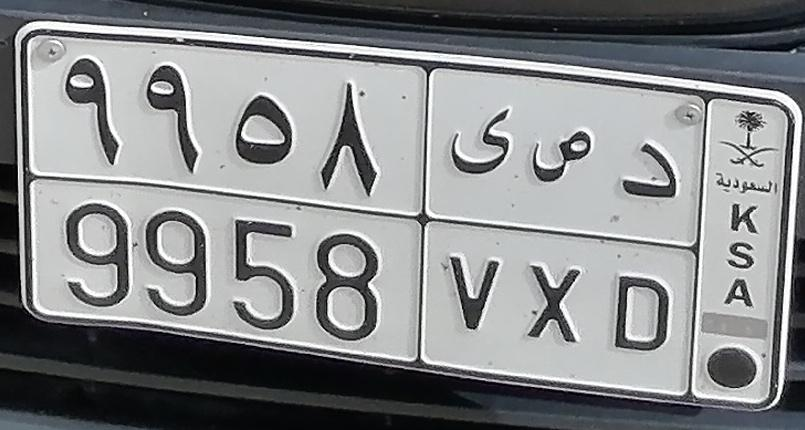5: (224, 88, 303, 332)
8: (306, 78, 394, 347)
9: (58, 52, 134, 313), (136, 59, 211, 320)
D: (600, 133, 681, 356)
V: (437, 99, 524, 333)
X: (518, 129, 597, 345)
